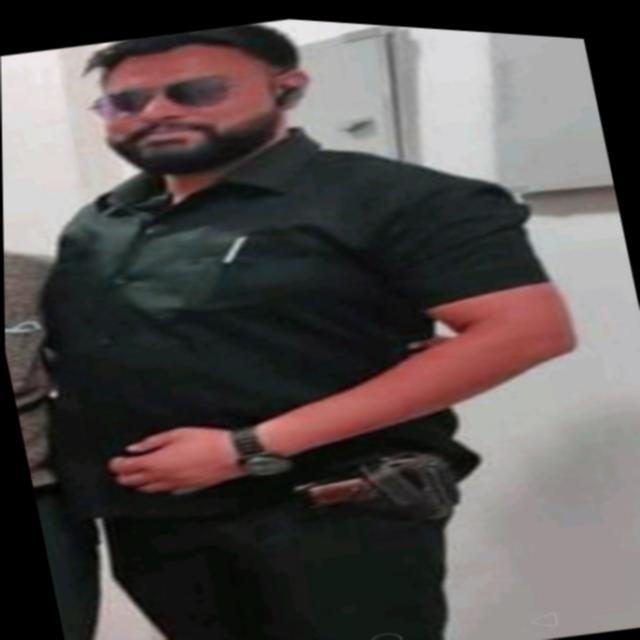weapon: (278, 428, 472, 556)
